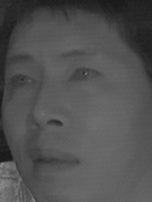eye: (69, 63, 107, 85), (8, 71, 39, 91)
mouth: (23, 143, 80, 175)
